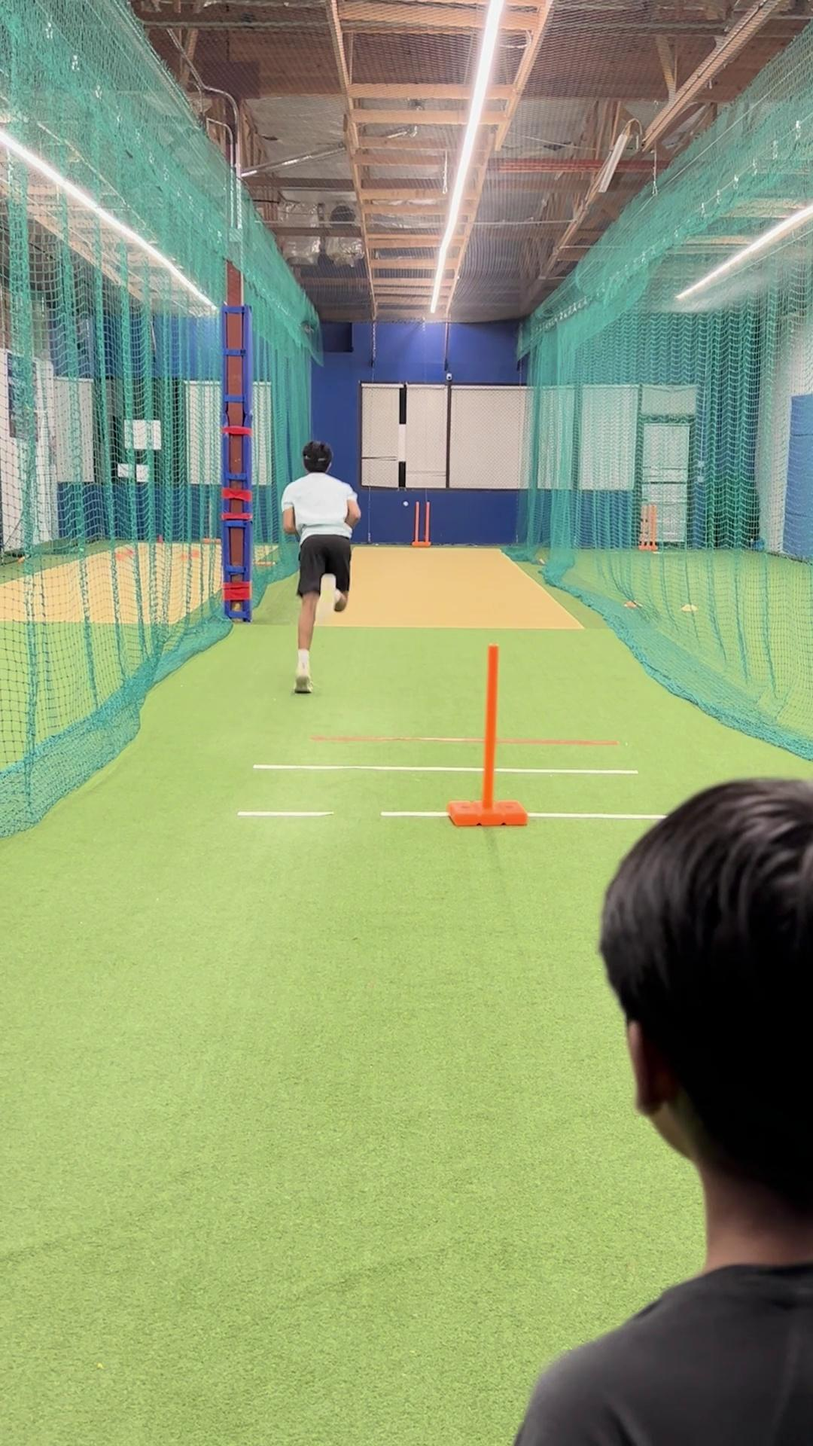ball: (400, 498, 412, 508)
